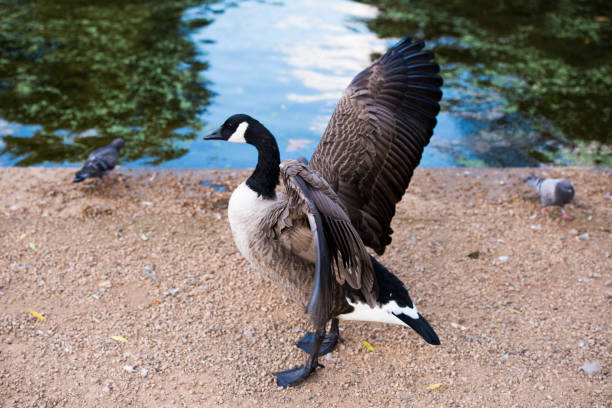goose: (198, 31, 445, 391)
